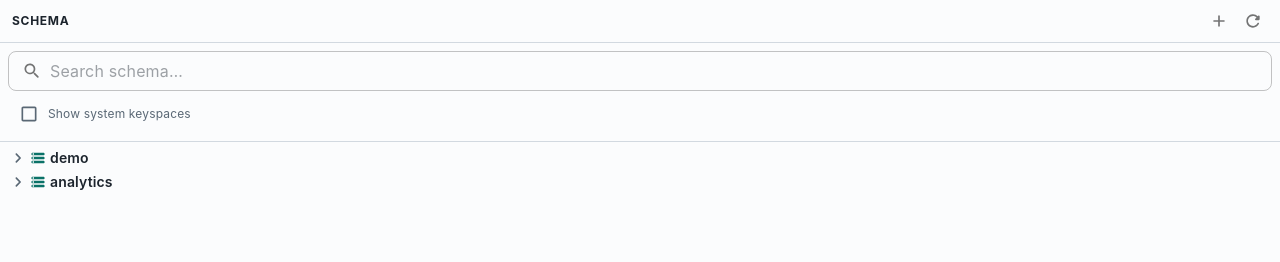
Test: SchemaSidebar › hides object types the probe says the cluster cannot manage (§7.1)
The image size is (1280, 262).
Click the button with test id "new-object".
click(1219, 21)  # box left=1204, top=6, right=1234, bottom=36
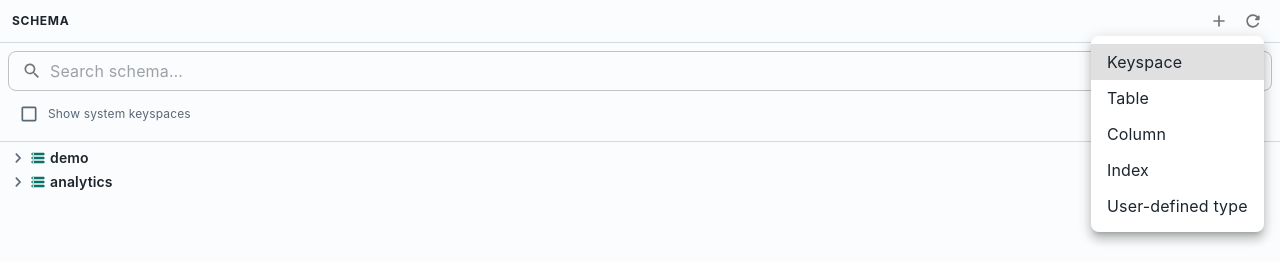
Result: the menu item with test id "new-object-TABLE" is shown at left=1107, top=88, right=1149, bottom=108
